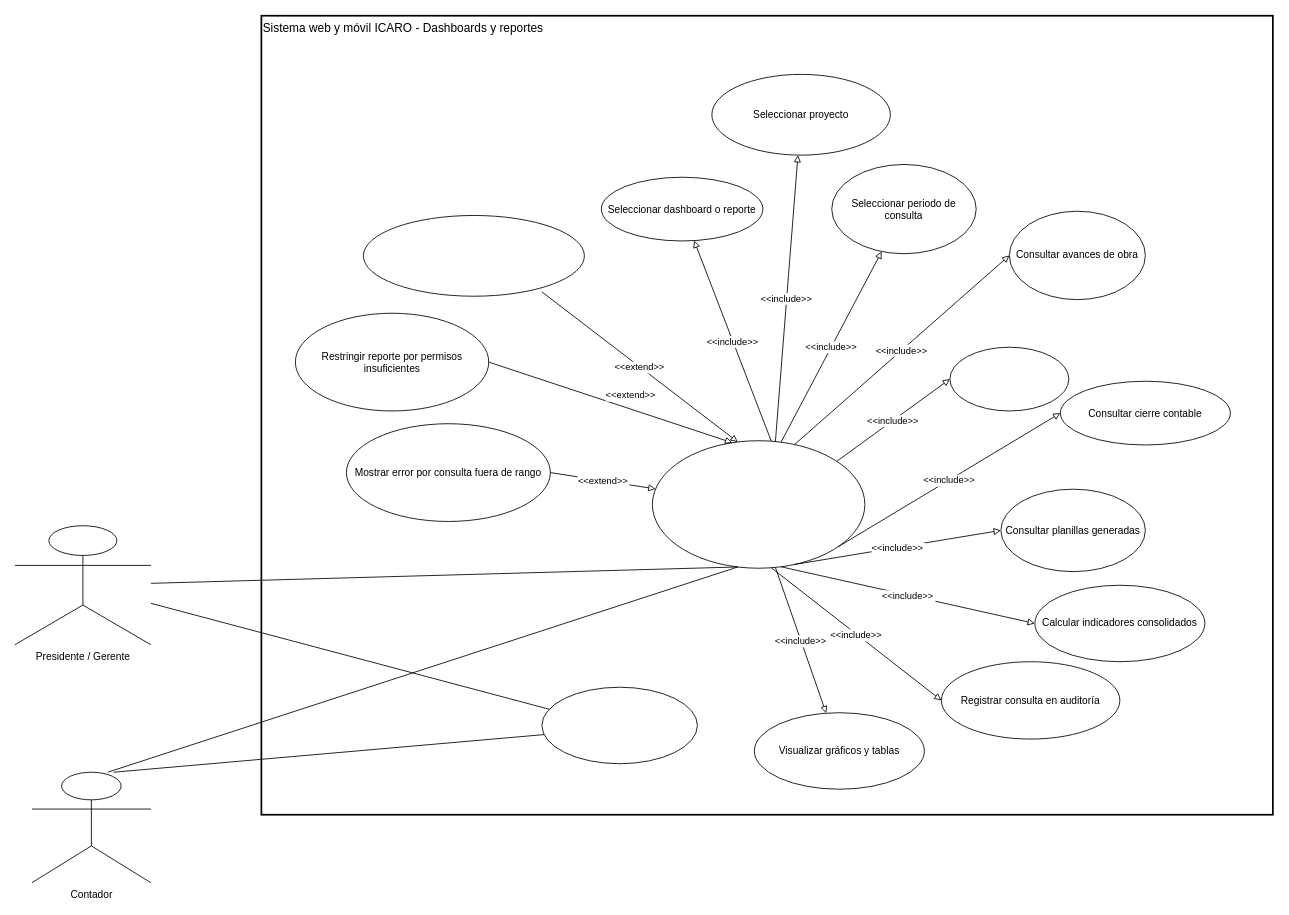
Some shapes in this 1289 by 915 pixel diagram are drawn without their labels. Here are the shapes that lost their labels. From the top down, the centre of each, then its label:
point 473,255: Mostrar mensaje sin datos disponibles
point 1009,378: Consultar compras e inventario
point 758,504: Consultar dashboards y reportes gerenciales
point 619,725: Exportar reporte operativo
